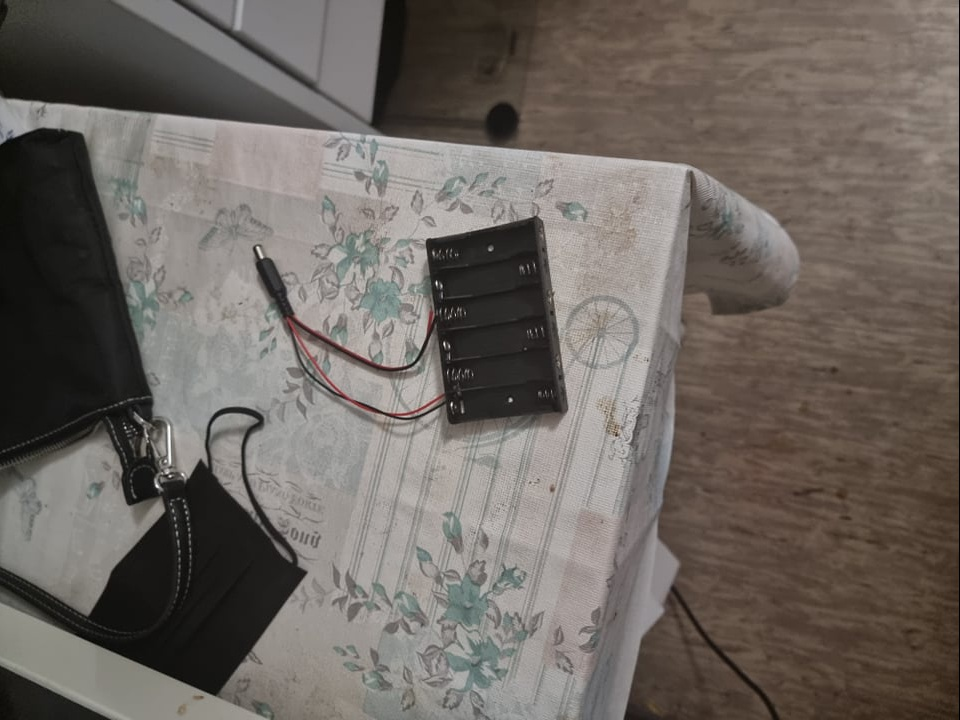BATTERY BOX: (420, 216, 575, 424)
